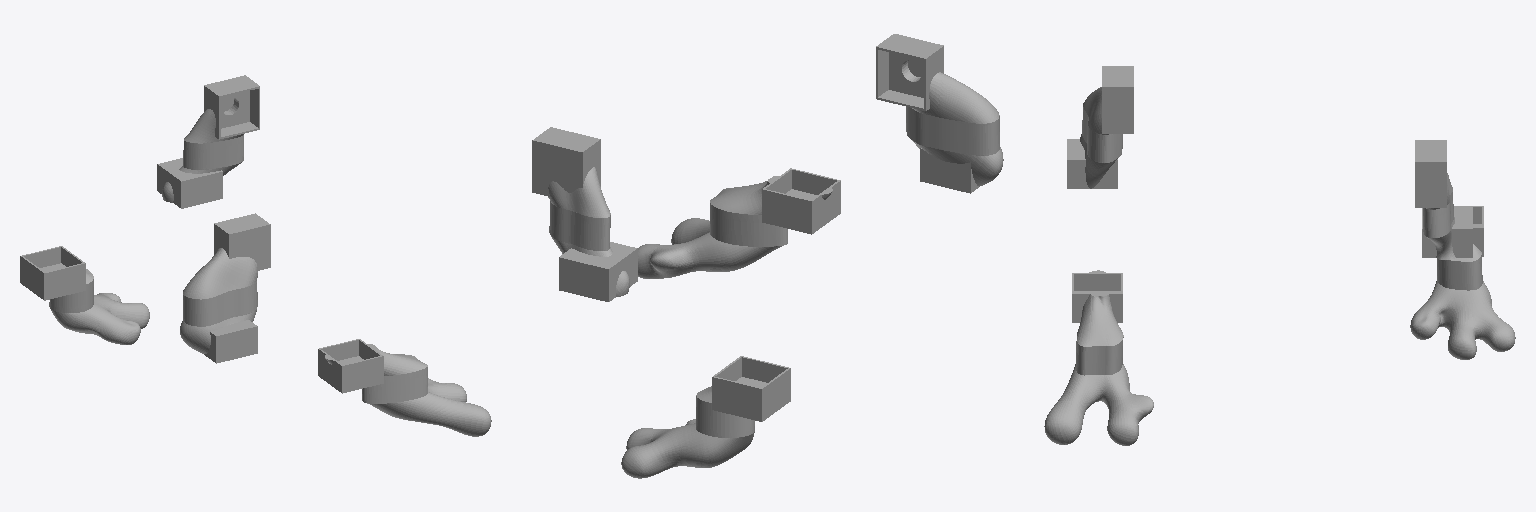
URDF robot description (FrogBot3_top-FrogBot3-y-6_bottom-FrogBot3-y-6):
<?xml version="1.0" ?>
<robot name="FrogBot3_top-FrogBot3-y-6_bottom-FrogBot3-y-6">

<material name="pla_5_percent_infill">
  <color rgba="0.700 0.700 0.700 1.000"/>
</material>

<link name="base_link">
  <inertial>
    <origin xyz="0 0 0" rpy="0 0 0"/>
    <mass value="1.5419899792307459"/>
    <inertia ixx="0.0054836076661745285" iyy="0.013703915460827342" izz="0.013742849788882953" ixy="5.961000823851627e-05" iyz="4.9944941207841843e-05" ixz="-0.0023657822822012154"/>
  </inertial>
  <visual>
    <origin xyz="0 0 0" rpy="0 0 0"/>
    <geometry>
      <mesh filename="simple_meshes/base_link.stl" scale="0.001 0.001 0.001"/>
    </geometry>
    <material name="pla_5_percent_infill"/>
  </visual>
  <collision>
    <origin xyz="0 0 0" rpy="0 0 0"/>
    <geometry>
      <mesh filename="simple_meshes/base_link.stl" scale="0.001 0.001 0.001"/>
    </geometry>
  </collision>
</link>

<link name="body_1_0_1">
  <inertial>
    <origin xyz="-0.065859 -0.113451 -0.001976" rpy="0 0 0"/>
    <mass value="0.05043908989480724"/>
    <inertia ixx="5.151558149315378e-05" iyy="6.866318900785719e-05" izz="2.897932103452334e-05" ixy="3.589591955085558e-06" iyz="4.757608579890023e-06" ixz="-1.8146799378408667e-05"/>
  </inertial>
  <visual>
    <origin xyz="-0.065859 -0.113451 -0.001976" rpy="0 0 0"/>
    <geometry>
      <mesh filename="simple_meshes/body_1_0_1.stl" scale="0.001 0.001 0.001"/>
    </geometry>
    <material name="pla_5_percent_infill"/>
  </visual>
  <collision>
    <origin xyz="-0.065859 -0.113451 -0.001976" rpy="0 0 0"/>
    <geometry>
      <mesh filename="simple_meshes/body_1_0_1.stl" scale="0.001 0.001 0.001"/>
    </geometry>
  </collision>
</link>

<link name="body_1_1_1">
  <inertial>
    <origin xyz="0.083929 -0.113451 -0.010696" rpy="0 0 0"/>
    <mass value="0.07735615922327133"/>
    <inertia ixx="7.661127751204967e-05" iyy="0.00012118125343421517" izz="6.355575032887008e-05" ixy="6.802552610843133e-06" iyz="1.1913213214781774e-05" ixz="-3.0703826171547875e-05"/>
  </inertial>
  <visual>
    <origin xyz="0.083929 -0.113451 -0.010696" rpy="0 0 0"/>
    <geometry>
      <mesh filename="simple_meshes/body_1_1_1.stl" scale="0.001 0.001 0.001"/>
    </geometry>
    <material name="pla_5_percent_infill"/>
  </visual>
  <collision>
    <origin xyz="0.083929 -0.113451 -0.010696" rpy="0 0 0"/>
    <geometry>
      <mesh filename="simple_meshes/body_1_1_1.stl" scale="0.001 0.001 0.001"/>
    </geometry>
  </collision>
</link>

<link name="body_1_2_1">
  <inertial>
    <origin xyz="-0.060736 0.113451 -0.005366" rpy="0 0 0"/>
    <mass value="0.05252108979018033"/>
    <inertia ixx="5.6589542939458485e-05" iyy="7.25045065193594e-05" izz="2.869614373473585e-05" ixy="-3.675795222811179e-06" iyz="-6.817511518527784e-06" ixz="-1.8965648842224448e-05"/>
  </inertial>
  <visual>
    <origin xyz="-0.060736 0.113451 -0.005366" rpy="0 0 0"/>
    <geometry>
      <mesh filename="simple_meshes/body_1_2_1.stl" scale="0.001 0.001 0.001"/>
    </geometry>
    <material name="pla_5_percent_infill"/>
  </visual>
  <collision>
    <origin xyz="-0.060736 0.113451 -0.005366" rpy="0 0 0"/>
    <geometry>
      <mesh filename="simple_meshes/body_1_2_1.stl" scale="0.001 0.001 0.001"/>
    </geometry>
  </collision>
</link>

<link name="body_1_3_1">
  <inertial>
    <origin xyz="0.093982 0.113451 -0.005431" rpy="0 0 0"/>
    <mass value="0.07948951377916055"/>
    <inertia ixx="7.141694540946722e-05" iyy="0.00010771956399897018" izz="5.738964925272767e-05" ixy="-5.114019119288474e-06" iyz="-1.0652062142099184e-05" ixz="-2.2687922658366777e-05"/>
  </inertial>
  <visual>
    <origin xyz="0.093982 0.113451 -0.005431" rpy="0 0 0"/>
    <geometry>
      <mesh filename="simple_meshes/body_1_3_1.stl" scale="0.001 0.001 0.001"/>
    </geometry>
    <material name="pla_5_percent_infill"/>
  </visual>
  <collision>
    <origin xyz="0.093982 0.113451 -0.005431" rpy="0 0 0"/>
    <geometry>
      <mesh filename="simple_meshes/body_1_3_1.stl" scale="0.001 0.001 0.001"/>
    </geometry>
  </collision>
</link>

<link name="body_2_0_1">
  <inertial>
    <origin xyz="-0.026166 -0.164707 0.112895" rpy="0 0 0"/>
    <mass value="0.10714826643191856"/>
    <inertia ixx="0.00011232062327592215" iyy="0.00023869567646114549" izz="0.00020645174976957397" ixy="3.3526182007755957e-06" iyz="-4.35639341365545e-06" ixz="8.953426446172905e-05"/>
  </inertial>
  <visual>
    <origin xyz="-0.026166 -0.164707 0.112895" rpy="0 0 0"/>
    <geometry>
      <mesh filename="simple_meshes/body_2_0_1.stl" scale="0.001 0.001 0.001"/>
    </geometry>
    <material name="pla_5_percent_infill"/>
  </visual>
  <collision>
    <origin xyz="-0.026166 -0.164707 0.112895" rpy="0 0 0"/>
    <geometry>
      <mesh filename="simple_meshes/body_2_0_1.stl" scale="0.001 0.001 0.001"/>
    </geometry>
  </collision>
</link>

<link name="body_2_1_1">
  <inertial>
    <origin xyz="0.127747 -0.174737 0.112895" rpy="0 0 0"/>
    <mass value="0.08654272336315388"/>
    <inertia ixx="7.902582759414419e-05" iyy="0.00012933616828467078" izz="0.00010678204388521679" ixy="-9.998369641293046e-06" iyz="4.7074206892803484e-06" ixz="4.8814511074510075e-05"/>
  </inertial>
  <visual>
    <origin xyz="0.127747 -0.174737 0.112895" rpy="0 0 0"/>
    <geometry>
      <mesh filename="simple_meshes/body_2_1_1.stl" scale="0.001 0.001 0.001"/>
    </geometry>
    <material name="pla_5_percent_infill"/>
  </visual>
  <collision>
    <origin xyz="0.127747 -0.174737 0.112895" rpy="0 0 0"/>
    <geometry>
      <mesh filename="simple_meshes/body_2_1_1.stl" scale="0.001 0.001 0.001"/>
    </geometry>
  </collision>
</link>

<link name="body_2_2_1">
  <inertial>
    <origin xyz="-0.021708 0.167525 0.112895" rpy="0 0 0"/>
    <mass value="0.10553479928581334"/>
    <inertia ixx="0.0001104517423957535" iyy="0.0002344243881684683" izz="0.00020192699767642656" ixy="2.7259266468415873e-06" iyz="-1.9540271832285162e-06" ixz="8.83522039310464e-05"/>
  </inertial>
  <visual>
    <origin xyz="-0.021708 0.167525 0.112895" rpy="0 0 0"/>
    <geometry>
      <mesh filename="simple_meshes/body_2_2_1.stl" scale="0.001 0.001 0.001"/>
    </geometry>
    <material name="pla_5_percent_infill"/>
  </visual>
  <collision>
    <origin xyz="-0.021708 0.167525 0.112895" rpy="0 0 0"/>
    <geometry>
      <mesh filename="simple_meshes/body_2_2_1.stl" scale="0.001 0.001 0.001"/>
    </geometry>
  </collision>
</link>

<link name="body_2_3_1">
  <inertial>
    <origin xyz="0.128136 0.172985 0.112895" rpy="0 0 0"/>
    <mass value="0.08224483900108041"/>
    <inertia ixx="7.890333613309614e-05" iyy="0.00012101153974773595" izz="0.00010430102057424782" ixy="8.194643963568664e-06" iyz="-6.076693565532521e-06" ixz="4.459435309488776e-05"/>
  </inertial>
  <visual>
    <origin xyz="0.128136 0.172985 0.112895" rpy="0 0 0"/>
    <geometry>
      <mesh filename="simple_meshes/body_2_3_1.stl" scale="0.001 0.001 0.001"/>
    </geometry>
    <material name="pla_5_percent_infill"/>
  </visual>
  <collision>
    <origin xyz="0.128136 0.172985 0.112895" rpy="0 0 0"/>
    <geometry>
      <mesh filename="simple_meshes/body_2_3_1.stl" scale="0.001 0.001 0.001"/>
    </geometry>
  </collision>
</link>

<joint name="joint_1_0" type="revolute">
  <origin xyz="0.065859 0.113451 0.001976" rpy="0 0 0"/>
  <parent link="base_link"/>
  <child link="body_1_0_1"/>
  <axis xyz="0.0 0.0 -1.0"/>
  <limit upper="1.2" lower="-1.2" effort="3.8" velocity="5.4"/>
</joint>
<transmission name="joint_1_0_tran">
  <type>transmission_interface/SimpleTransmission</type>
  <joint name="joint_1_0">
    <hardwareInterface>PositionJointInterface</hardwareInterface>
  </joint>
  <actuator name="joint_1_0_actr">
    <hardwareInterface>PositionJointInterface</hardwareInterface>
    <mechanicalReduction>1</mechanicalReduction>
  </actuator>
</transmission>

<joint name="joint_1_1" type="revolute">
  <origin xyz="-0.083929 0.113451 0.010696" rpy="0 0 0"/>
  <parent link="base_link"/>
  <child link="body_1_1_1"/>
  <axis xyz="0.0 0.0 -1.0"/>
  <limit upper="1.2" lower="-1.2" effort="3.8" velocity="5.4"/>
</joint>
<transmission name="joint_1_1_tran">
  <type>transmission_interface/SimpleTransmission</type>
  <joint name="joint_1_1">
    <hardwareInterface>PositionJointInterface</hardwareInterface>
  </joint>
  <actuator name="joint_1_1_actr">
    <hardwareInterface>PositionJointInterface</hardwareInterface>
    <mechanicalReduction>1</mechanicalReduction>
  </actuator>
</transmission>

<joint name="joint_1_2" type="revolute">
  <origin xyz="0.060736 -0.113451 0.005366" rpy="0 0 0"/>
  <parent link="base_link"/>
  <child link="body_1_2_1"/>
  <axis xyz="0.0 0.0 -1.0"/>
  <limit upper="1.2" lower="-1.2" effort="3.8" velocity="5.4"/>
</joint>
<transmission name="joint_1_2_tran">
  <type>transmission_interface/SimpleTransmission</type>
  <joint name="joint_1_2">
    <hardwareInterface>PositionJointInterface</hardwareInterface>
  </joint>
  <actuator name="joint_1_2_actr">
    <hardwareInterface>PositionJointInterface</hardwareInterface>
    <mechanicalReduction>1</mechanicalReduction>
  </actuator>
</transmission>

<joint name="joint_1_3" type="revolute">
  <origin xyz="-0.093982 -0.113451 0.005431" rpy="0 0 0"/>
  <parent link="base_link"/>
  <child link="body_1_3_1"/>
  <axis xyz="0.0 0.0 -1.0"/>
  <limit upper="1.2" lower="-1.2" effort="3.8" velocity="5.4"/>
</joint>
<transmission name="joint_1_3_tran">
  <type>transmission_interface/SimpleTransmission</type>
  <joint name="joint_1_3">
    <hardwareInterface>PositionJointInterface</hardwareInterface>
  </joint>
  <actuator name="joint_1_3_actr">
    <hardwareInterface>PositionJointInterface</hardwareInterface>
    <mechanicalReduction>1</mechanicalReduction>
  </actuator>
</transmission>

<joint name="joint_2_0" type="revolute">
  <origin xyz="-0.039693 0.051256 -0.114871" rpy="0 0 0"/>
  <parent link="body_1_0_1"/>
  <child link="body_2_0_1"/>
  <axis xyz="0.0 1.0 0.0"/>
  <limit upper="1.2" lower="-1.2" effort="3.8" velocity="5.4"/>
</joint>
<transmission name="joint_2_0_tran">
  <type>transmission_interface/SimpleTransmission</type>
  <joint name="joint_2_0">
    <hardwareInterface>PositionJointInterface</hardwareInterface>
  </joint>
  <actuator name="joint_2_0_actr">
    <hardwareInterface>PositionJointInterface</hardwareInterface>
    <mechanicalReduction>1</mechanicalReduction>
  </actuator>
</transmission>

<joint name="joint_2_1" type="revolute">
  <origin xyz="-0.043818 0.061286 -0.123591" rpy="0 0 0"/>
  <parent link="body_1_1_1"/>
  <child link="body_2_1_1"/>
  <axis xyz="0.0 1.0 0.0"/>
  <limit upper="1.2" lower="-1.2" effort="3.8" velocity="5.4"/>
</joint>
<transmission name="joint_2_1_tran">
  <type>transmission_interface/SimpleTransmission</type>
  <joint name="joint_2_1">
    <hardwareInterface>PositionJointInterface</hardwareInterface>
  </joint>
  <actuator name="joint_2_1_actr">
    <hardwareInterface>PositionJointInterface</hardwareInterface>
    <mechanicalReduction>1</mechanicalReduction>
  </actuator>
</transmission>

<joint name="joint_2_2" type="revolute">
  <origin xyz="-0.039028 -0.054074 -0.118261" rpy="0 0 0"/>
  <parent link="body_1_2_1"/>
  <child link="body_2_2_1"/>
  <axis xyz="0.0 1.0 0.0"/>
  <limit upper="1.2" lower="-1.2" effort="3.8" velocity="5.4"/>
</joint>
<transmission name="joint_2_2_tran">
  <type>transmission_interface/SimpleTransmission</type>
  <joint name="joint_2_2">
    <hardwareInterface>PositionJointInterface</hardwareInterface>
  </joint>
  <actuator name="joint_2_2_actr">
    <hardwareInterface>PositionJointInterface</hardwareInterface>
    <mechanicalReduction>1</mechanicalReduction>
  </actuator>
</transmission>

<joint name="joint_2_3" type="revolute">
  <origin xyz="-0.034154 -0.059534 -0.118326" rpy="0 0 0"/>
  <parent link="body_1_3_1"/>
  <child link="body_2_3_1"/>
  <axis xyz="0.0 1.0 0.0"/>
  <limit upper="1.2" lower="-1.2" effort="3.8" velocity="5.4"/>
</joint>
<transmission name="joint_2_3_tran">
  <type>transmission_interface/SimpleTransmission</type>
  <joint name="joint_2_3">
    <hardwareInterface>PositionJointInterface</hardwareInterface>
  </joint>
  <actuator name="joint_2_3_actr">
    <hardwareInterface>PositionJointInterface</hardwareInterface>
    <mechanicalReduction>1</mechanicalReduction>
  </actuator>
</transmission>

</robot>

--- What the picture shows (computed from the rendered views, not written in the file) ---
Views: 3 orthographic renders of the robot side by side, from view 1: azimuth 30°, elevation 25°; view 2: azimuth 150°, elevation 25°; view 3: azimuth 270°, elevation 25°.
Model FrogBot3_top-FrogBot3-y-6_bottom-FrogBot3-y-6 with 9 links and 8 joints (8 revolute), rooted at base_link, posed all joints at 0.
Links seen in each view (by area): view 1: body_1_3_1, body_2_2_1, body_1_0_1, body_2_1_1; view 2: body_1_3_1, body_2_2_1, body_1_0_1, body_2_1_1; view 3: body_2_2_1, body_2_1_1, body_1_3_1, body_1_0_1.
Boxes of the visible links, x1,y1,x2,y2 form: body_1_3_1: (180,213,270,363); body_2_2_1: (318,339,491,436); body_1_0_1: (157,75,259,208); body_2_1_1: (20,246,149,344); body_1_3_1: (876,34,1003,193); body_2_2_1: (638,168,840,278); body_1_0_1: (532,127,637,301); body_2_1_1: (621,356,790,478); body_2_2_1: (1044,270,1153,445); body_2_1_1: (1410,206,1515,359); body_1_3_1: (1067,66,1133,188); body_1_0_1: (1415,140,1472,259).
Size in the robot's own frame: 0.3419 by 0.447 by 0.2709 metres.
4 mesh visuals loaded from 9 distinct referenced files (4 binary STL); not drawn: 5 (reference not matched to a file when rendering).